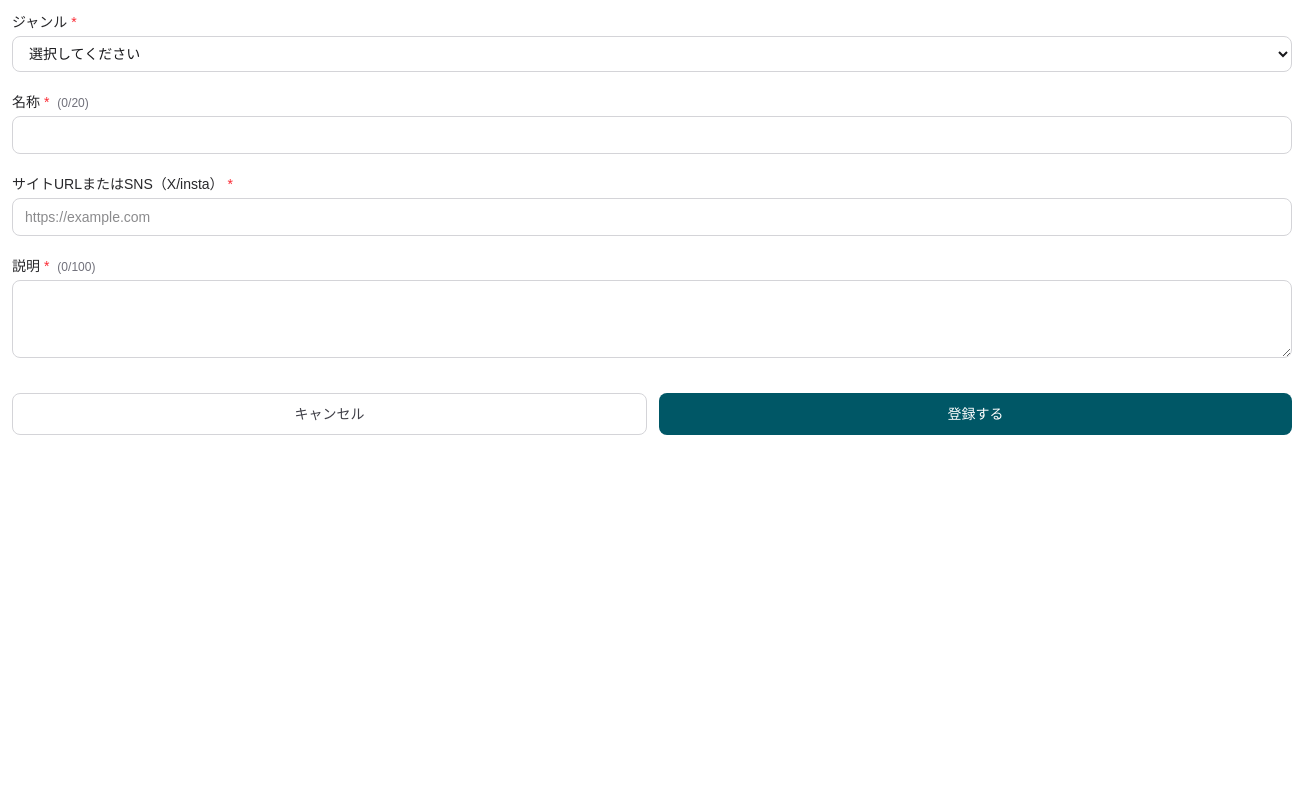
Scenario: ListingForm › massage-urisen を選択しても出張エリアは表示されない（年代は表示される）
Select "マッサージ・売り専" in the dropdown: (652, 54) [12,36,1292,72]
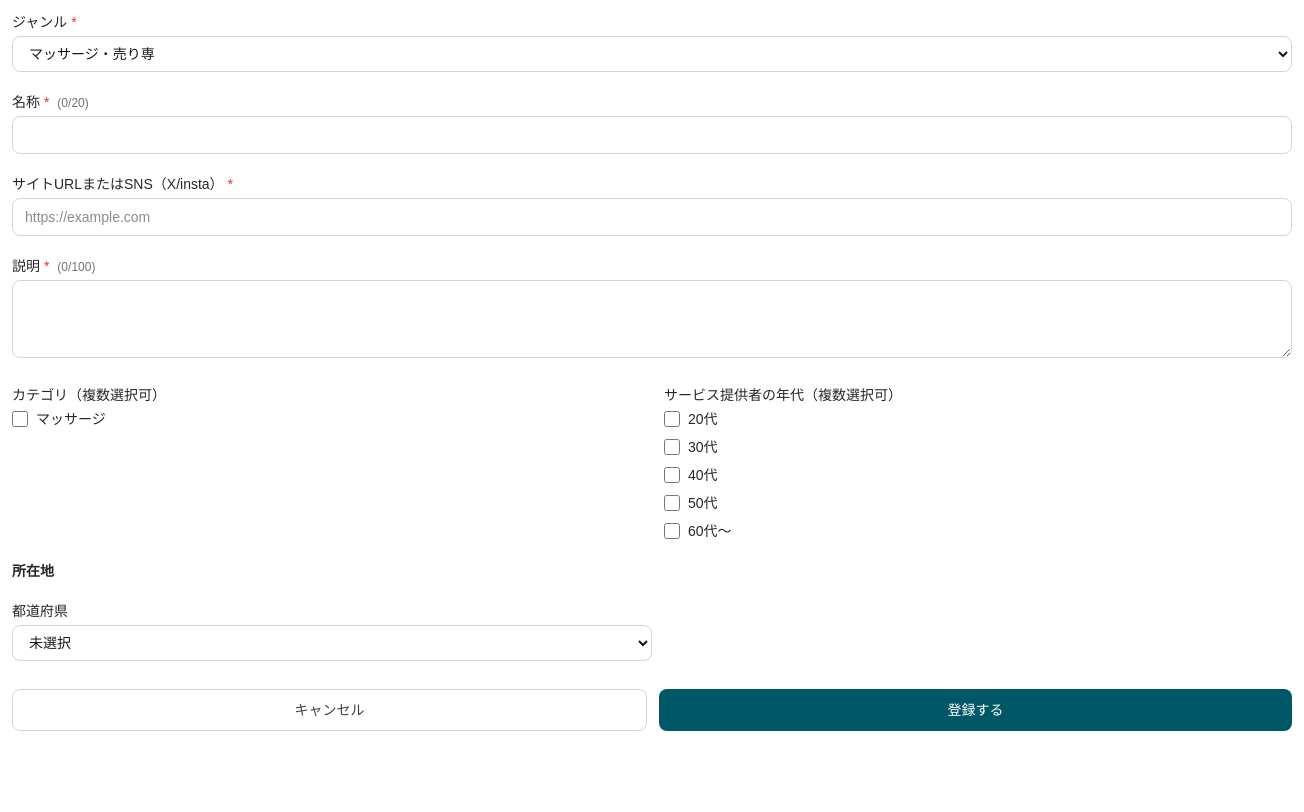
expect the text "サービス提供者の年代（複数選択可）" is shown: met, box [664,387,902,403]
